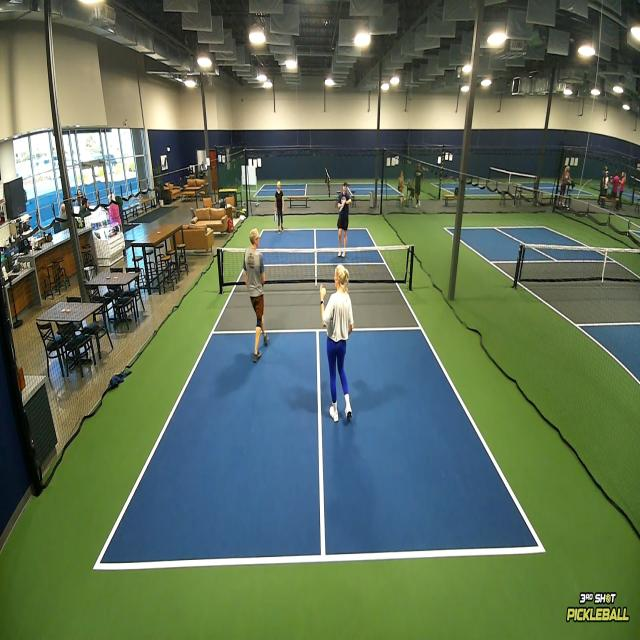Pickleball: (319, 283, 326, 302), (321, 285, 326, 297)
